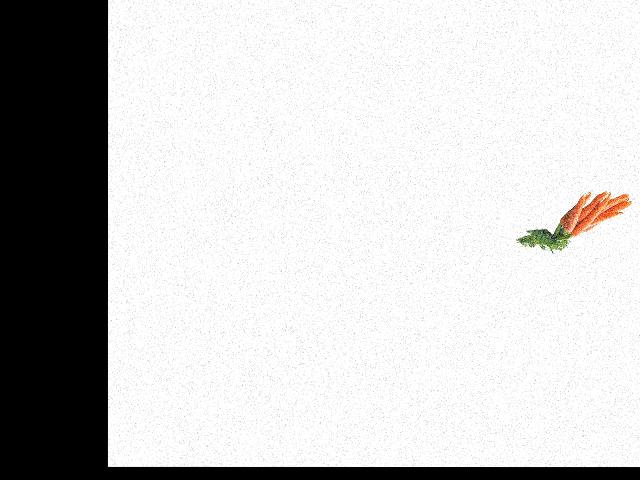carrot: (559, 179, 582, 229)
